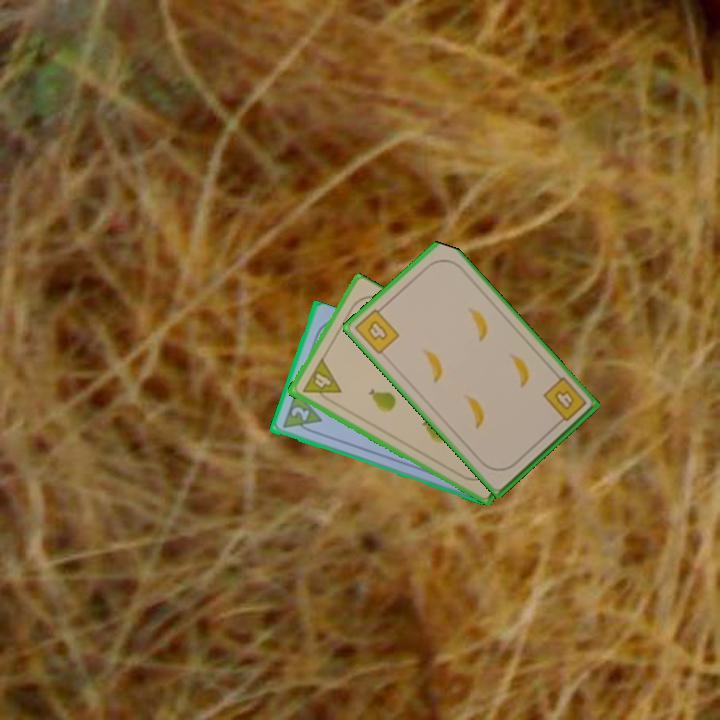2p: (278, 389, 324, 437)
4b: (351, 302, 402, 357), (539, 373, 589, 429)
4p: (298, 356, 343, 407)
